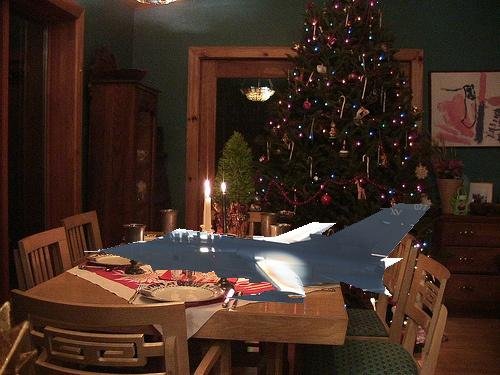tampered: (85, 204, 430, 303)
